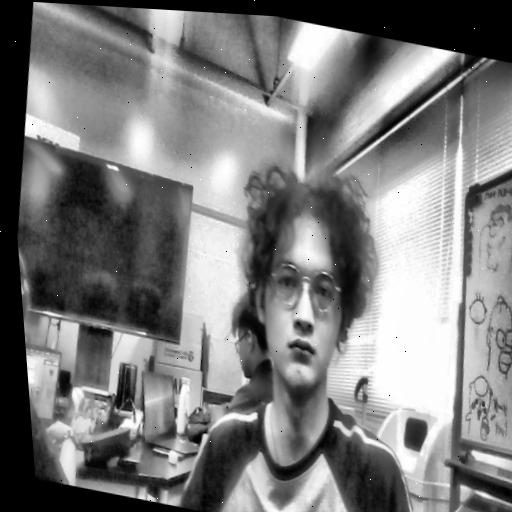Daifuku: (222, 154, 404, 407)
Not Daifuku: (220, 302, 270, 378), (18, 237, 41, 365)
